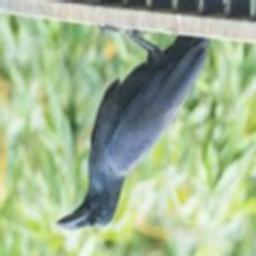Crow: (55, 0, 223, 231)
